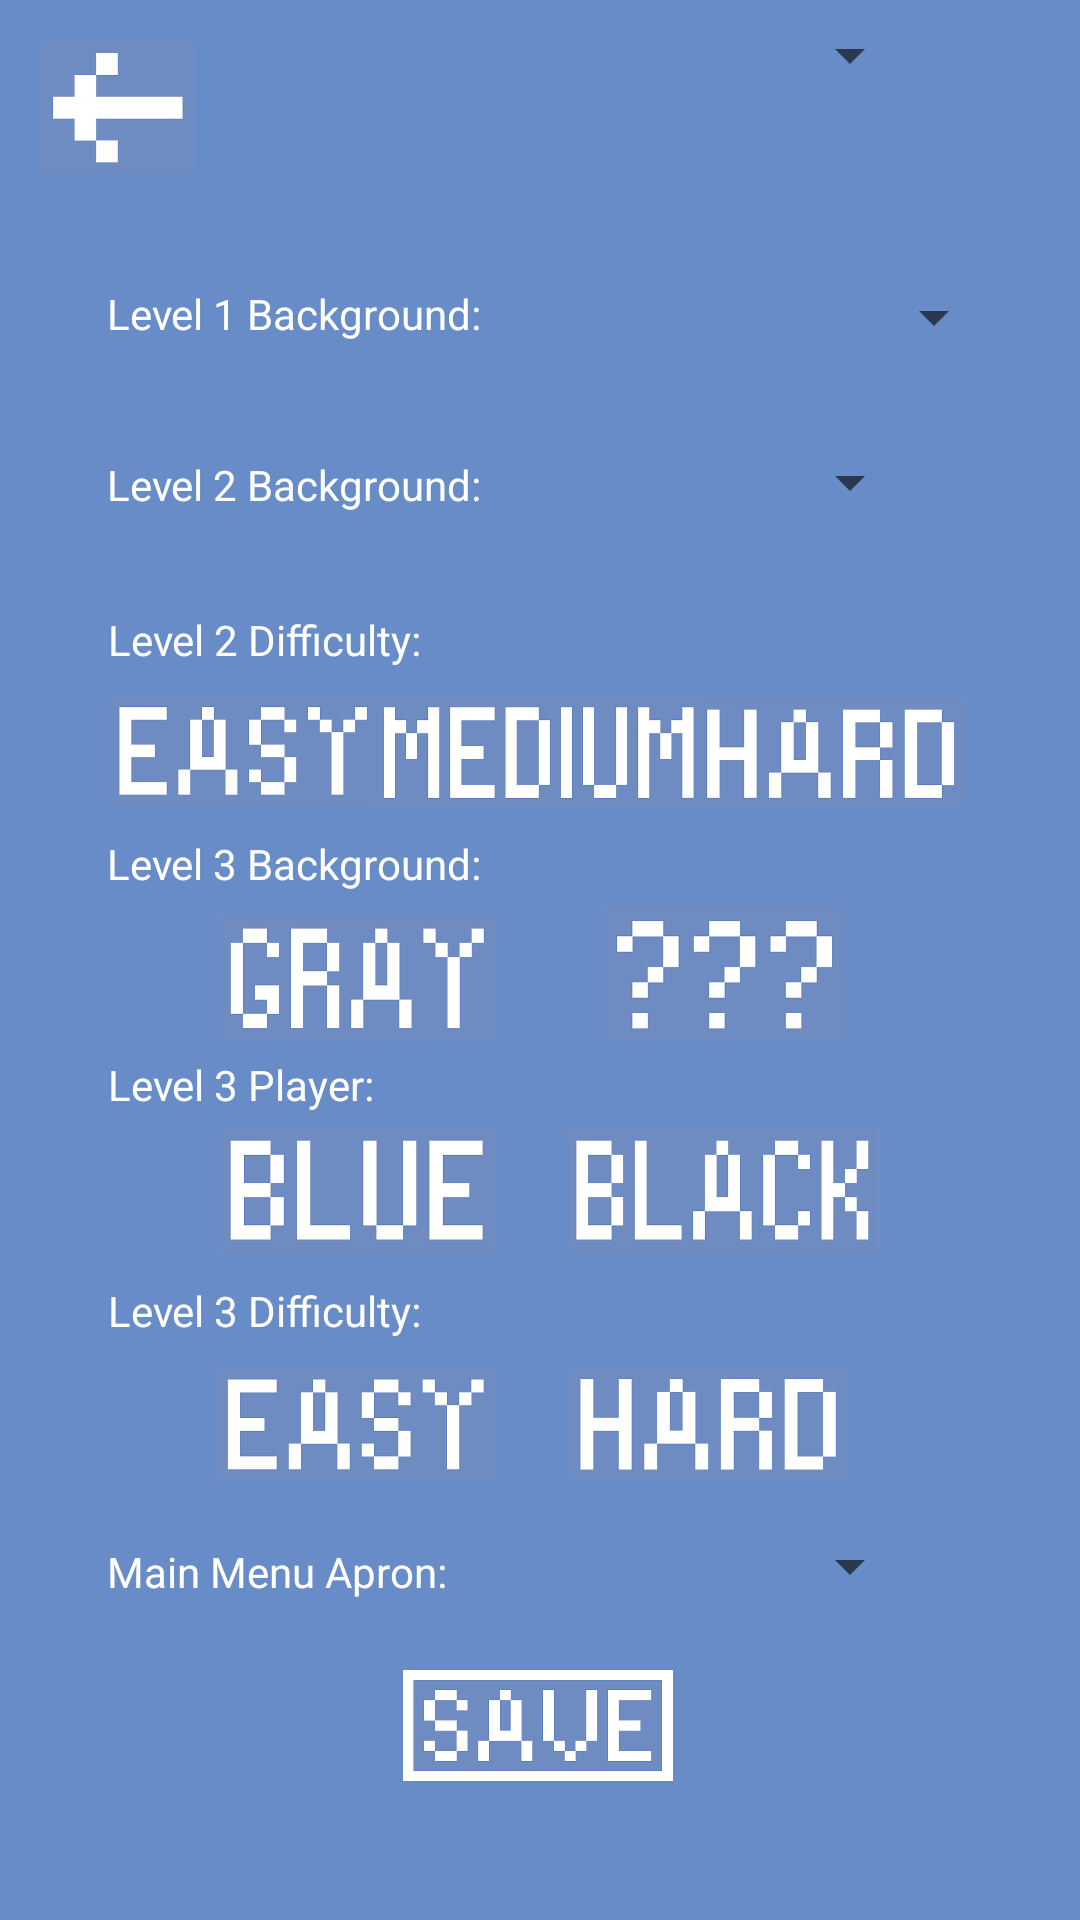

Screen size 1080 × 1920. Icon name, then its center in pixels as (x,y):
backbutton: (118,108)
